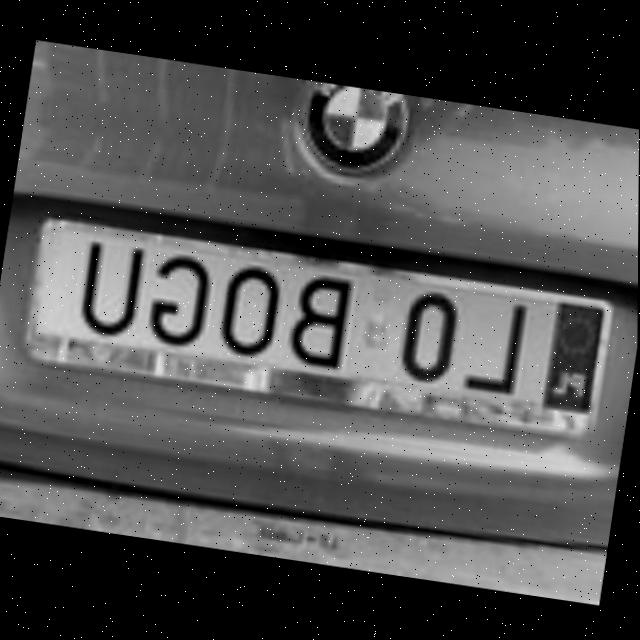license-plates: (33, 228, 604, 414)
